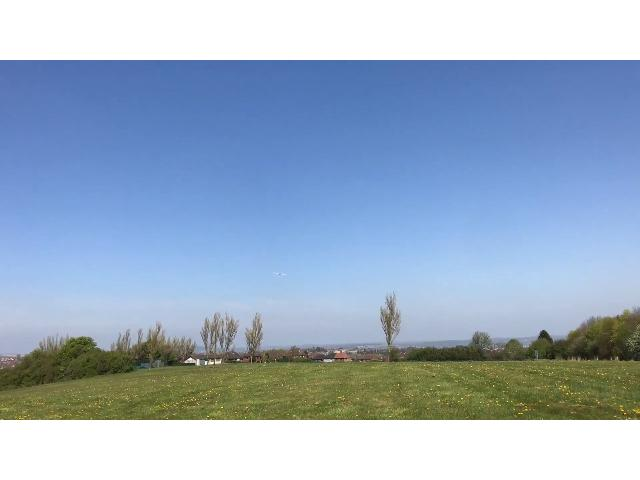Anti-Drone: (272, 266, 298, 284)
